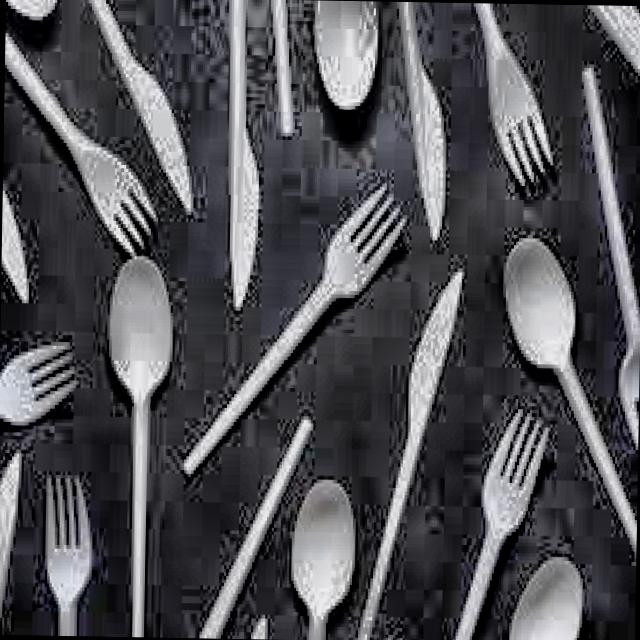plastic utensil: (184, 183, 403, 474), (503, 240, 636, 551), (357, 271, 462, 639), (4, 32, 157, 255), (108, 256, 172, 635), (202, 419, 306, 636), (454, 409, 547, 640), (92, 0, 191, 211), (477, 3, 551, 183), (399, 1, 445, 240), (291, 479, 355, 638), (229, 0, 259, 308), (46, 478, 92, 634), (0, 341, 76, 424), (319, 0, 375, 108)
